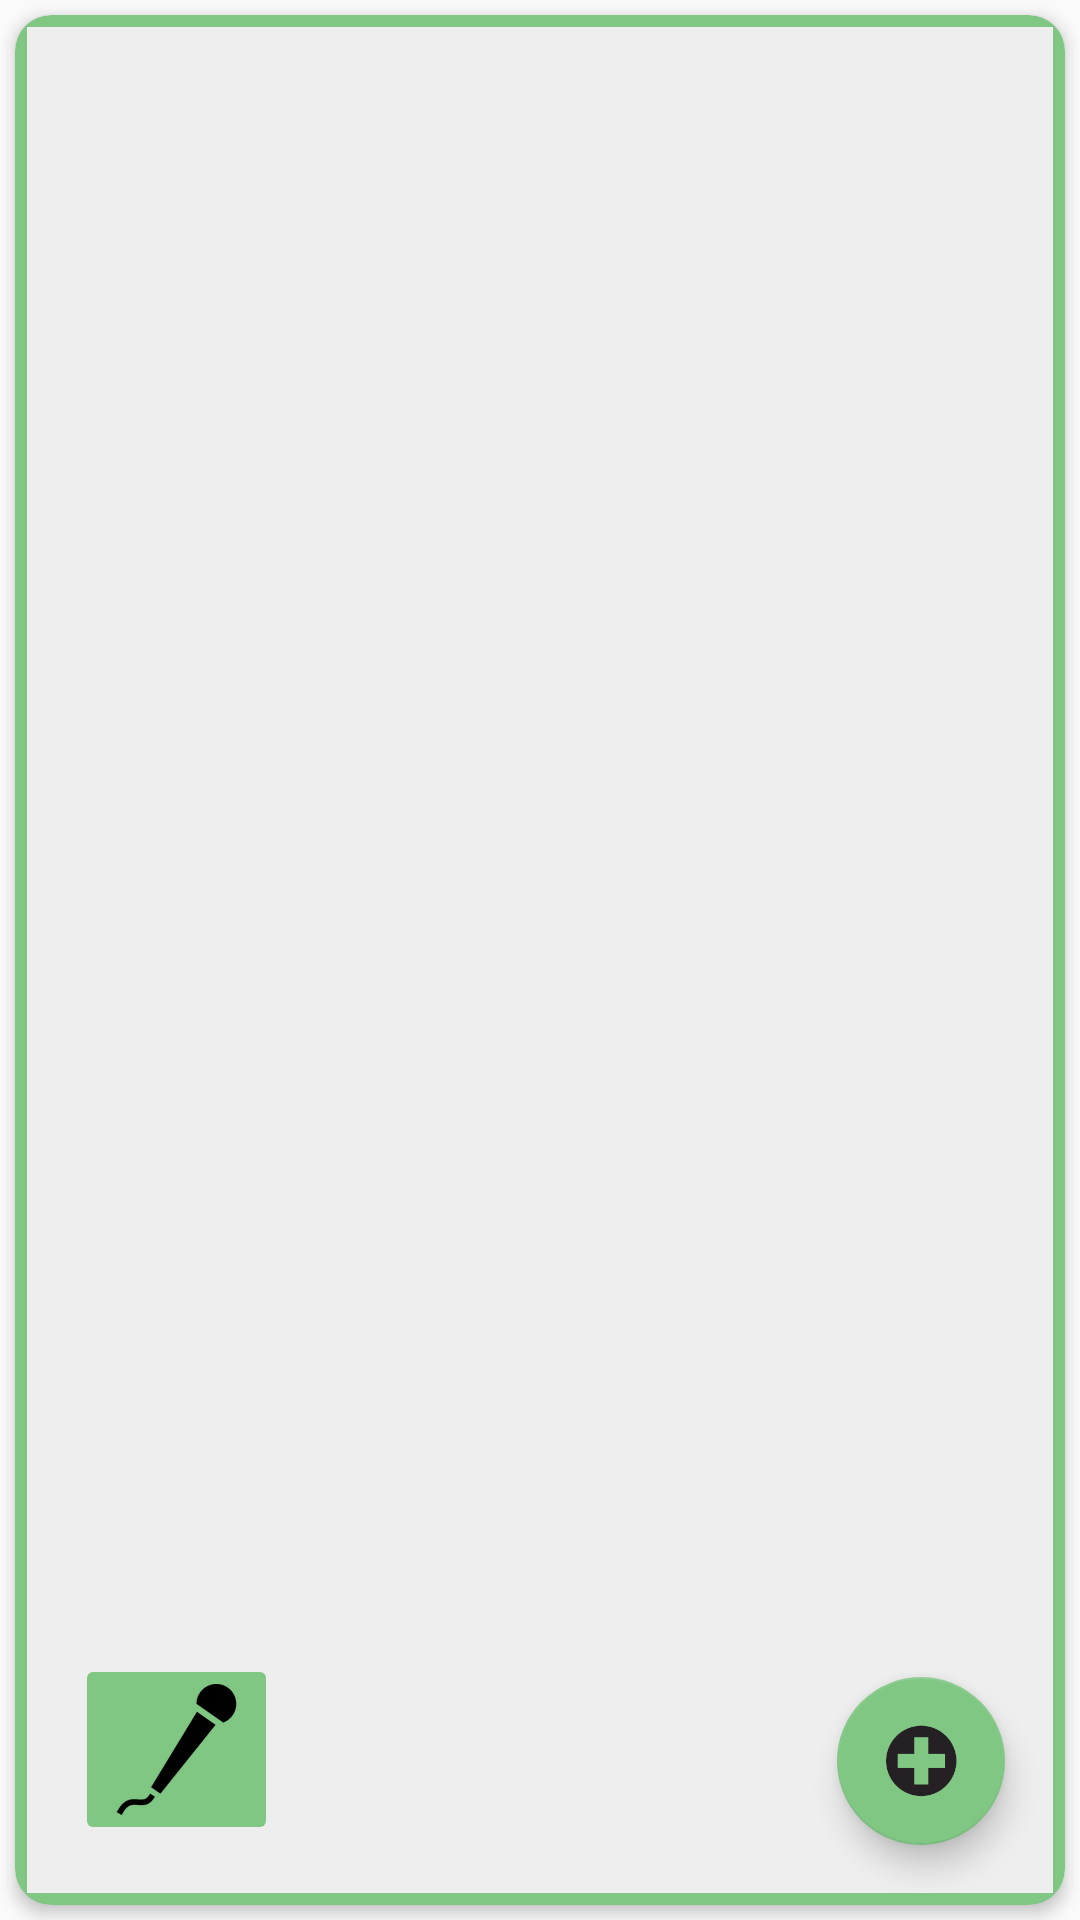

Named icons in this screenshot (1080px×1920px) and their centers, (x,y):
mic: (176,1749)
plussign: (921,1761)
